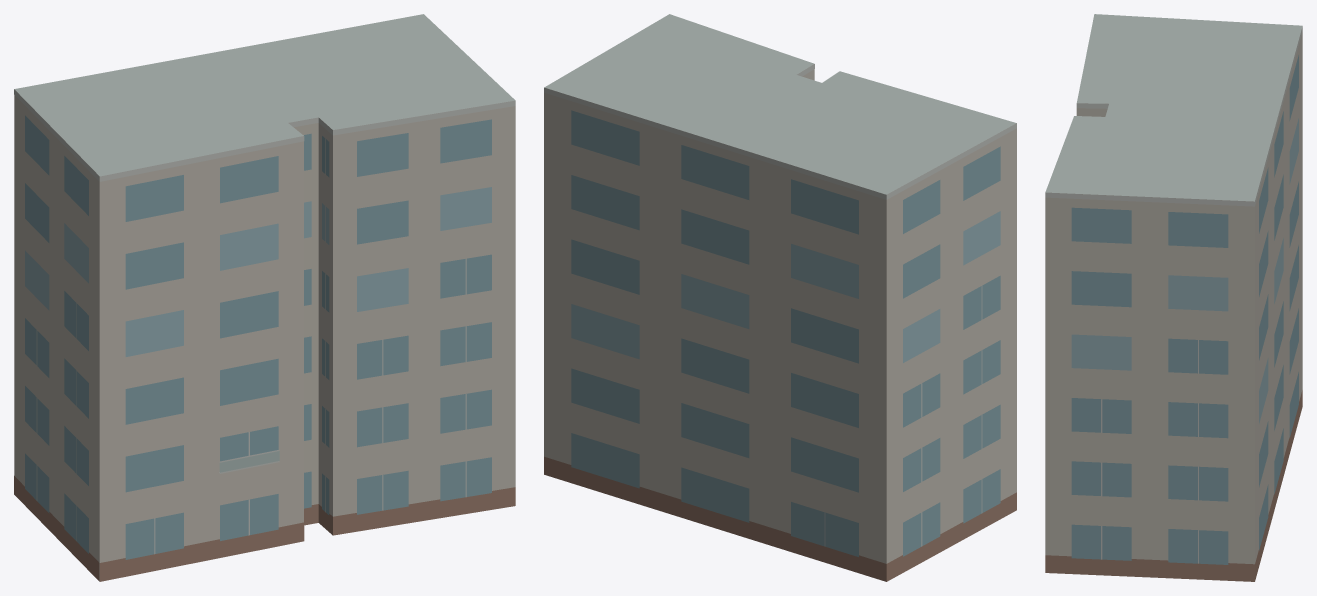
The model's file is survey-upis-32566110.glb.
3 renders of one model, left to right at view 1: azimuth 30°, elevation 25°; view 2: azimuth 150°, elevation 25°; view 3: azimuth 270°, elevation 25°, orthographic. The views are drawn at different scales.
Parts seen in each view (by area): view 1: survey-upis-32566110.tmp; view 2: survey-upis-32566110.tmp; view 3: survey-upis-32566110.tmp.
Part boxes in pixels (x1,y1,x2,y2): survey-upis-32566110.tmp: (14,14,515,581); survey-upis-32566110.tmp: (544,14,1016,581); survey-upis-32566110.tmp: (1045,14,1302,581).
Bounding box in the file's own units: 19.36 × 18.3 × 11.23.
